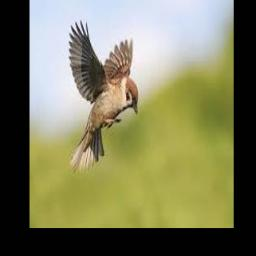Sparrow: (69, 20, 139, 173)
